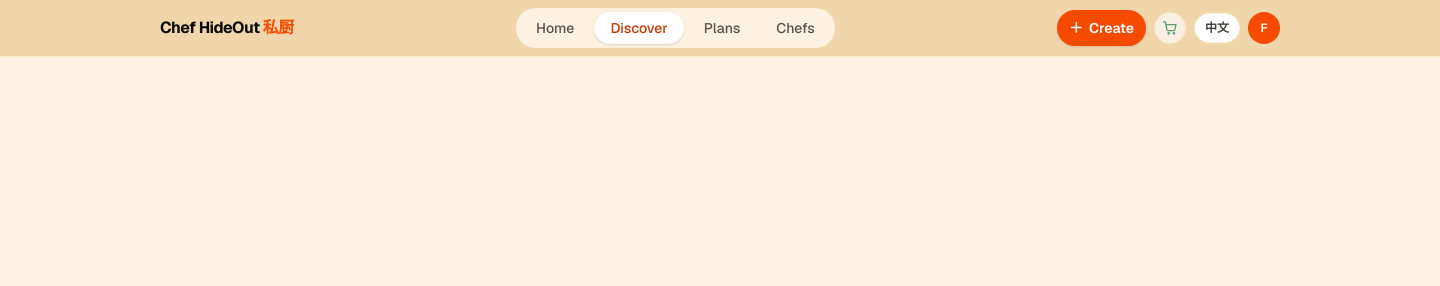
it: NavBar profile menu › closes the menu after a profile navigation choice
Click the button named "Profile": click(1264, 28) [1248,12,1280,44]
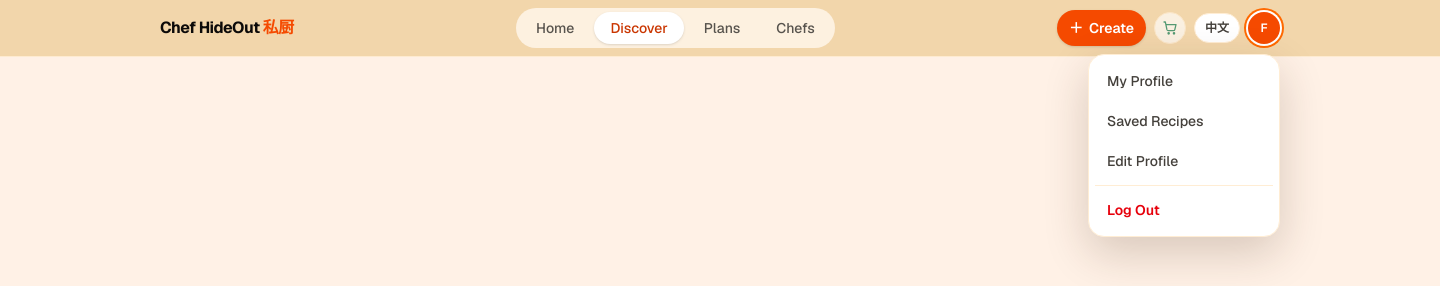
Click the menu item "My Profile": click(1140, 81) [1107,72,1173,90]
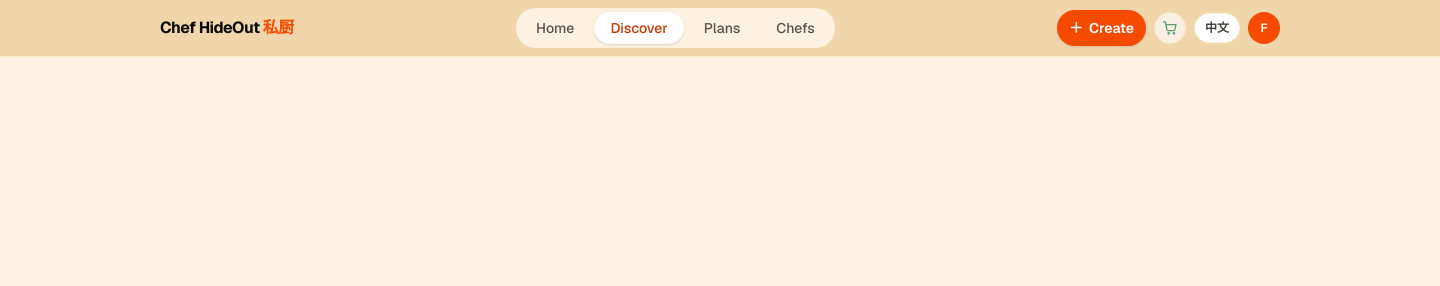
Result: the menu is gone
